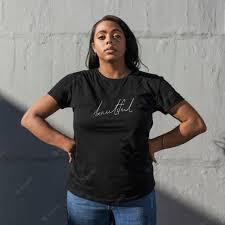Tshirt: (46, 70, 186, 204)
